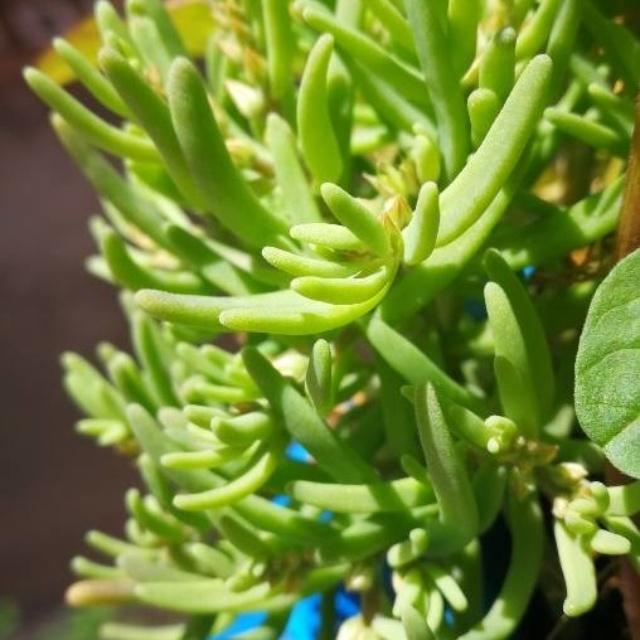obstacle: (63, 20, 602, 580)
